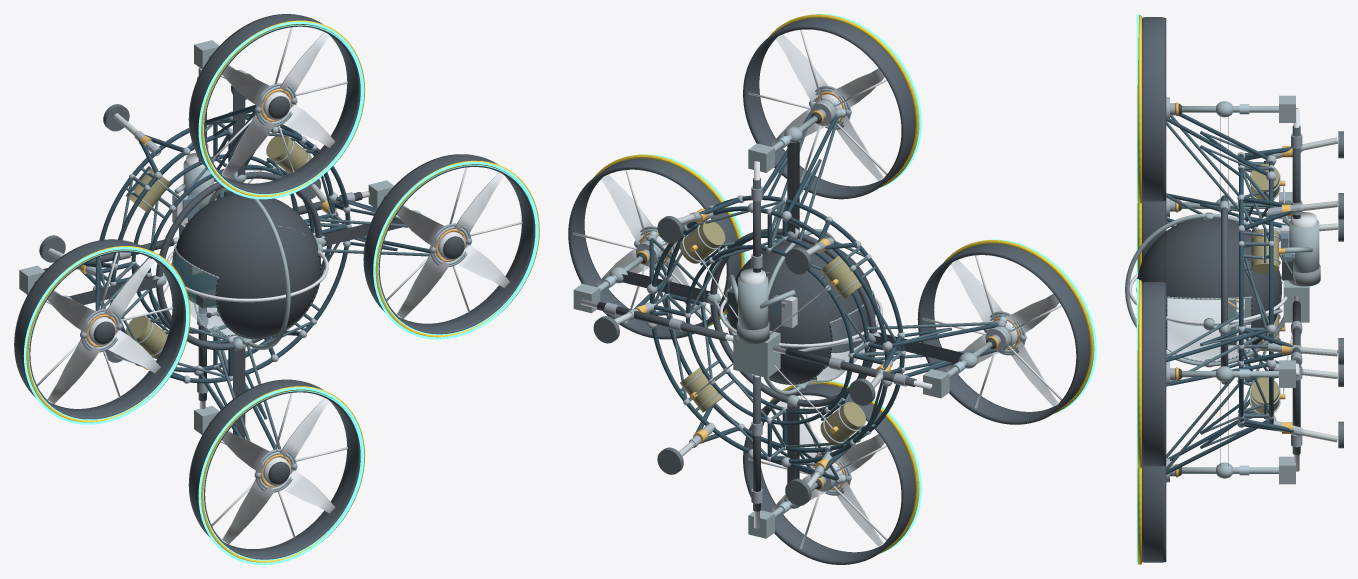
Rendered from r6-r3-drive-connected.glb.
3 renders of one model, left to right at view 1: azimuth 30°, elevation 25°; view 2: azimuth 150°, elevation 25°; view 3: azimuth 270°, elevation 25°, orthographic.
Visible parts, largest first — view 1: P04 | CFRP upper spherical sandwich, P02 | F1 open annular duct, P02 | F4 open annular duct, P02 | F3 open annular duct, P02 | F2 open annular duct, P04 | Aft CFRP belt west, V4 P06 | UPPER outer compression ring, P06 | Carbon ring R=1.190m, P04 | Segmented laminated window 1, Phase2_Duct_Lip_Glow_F4, Phase2_Duct_Lip_Glow_F2, Phase2_Duct_Lip_Glow_F1 (+35 smaller); view 2: P02 | F3 open annular duct, P02 | F2 open annular duct, P02 | F1 open annular duct, P02 | F4 open annular duct, P04 | CFRP lower spherical sandwich, V4 P06 | LOWER outer load ring, V4 P06 | UPPER outer compression ring, P06 | Carbon ring R=1.190m, V4 P06 | LOWER inner pressure ring, P04 | Aft CFRP belt west, P03 | Four way reduction gearbox, P01 | M250 C30P class turboshaft schematic (+24 smaller); view 3: P04 | Aft CFRP belt east, P02 | F2 open annular duct, P02 | F1 open annular duct, P04 | Segmented laminated window 3, P02 | F4 open annular duct, P05 | Outer pitch ring YZ, P04 | Segmented laminated window 2, P01 | M250 C30P class turboshaft schematic, P04 | CFRP lower spherical sandwich, V4 P06 | UPPER outer compression ring, P04 | Segmented laminated window 1, P04 | CFRP upper spherical sandwich (+36 smaller).
Part boxes in pixels (x1=…): P04 | CFRP upper spherical sandwich: x1=217, y1=227, x2=319, y2=337; P02 | F1 open annular duct: x1=363, y1=154, x2=535, y2=334; P02 | F4 open annular duct: x1=188, y1=379, x2=360, y2=559; P02 | F3 open annular duct: x1=14, y1=239, x2=185, y2=419; P02 | F2 open annular duct: x1=188, y1=14, x2=360, y2=193; P04 | Aft CFRP belt west: x1=176, y1=194, x2=267, y2=276; V4 P06 | UPPER outer compression ring: x1=111, y1=128, x2=350, y2=383; P06 | Carbon ring R=1.190m: x1=156, y1=171, x2=322, y2=350; P04 | Segmented laminated window 1: x1=173, y1=251, x2=234, y2=334; Phase2_Duct_Lip_Glow_F4: x1=198, y1=387, x2=364, y2=564; Phase2_Duct_Lip_Glow_F2: x1=198, y1=21, x2=364, y2=199; Phase2_Duct_Lip_Glow_F1: x1=373, y1=161, x2=538, y2=339; P02 | F3 open annular duct: x1=917, y1=243, x2=1090, y2=424; P02 | F2 open annular duct: x1=743, y1=18, x2=915, y2=199; P02 | F1 open annular duct: x1=568, y1=158, x2=740, y2=339; P02 | F4 open annular duct: x1=743, y1=384, x2=915, y2=564; P04 | CFRP lower spherical sandwich: x1=728, y1=272, x2=830, y2=383; V4 P06 | LOWER outer load ring: x1=650, y1=206, x2=889, y2=463; V4 P06 | UPPER outer compression ring: x1=665, y1=195, x2=904, y2=452; P06 | Carbon ring R=1.190m: x1=710, y1=228, x2=876, y2=407; V4 P06 | LOWER inner pressure ring: x1=686, y1=245, x2=853, y2=425; P04 | Aft CFRP belt west: x1=780, y1=242, x2=871, y2=322; P03 | Four way reduction gearbox: x1=733, y1=330, x2=780, y2=377; P01 | M250 C30P class turboshaft schematic: x1=738, y1=276, x2=768, y2=330; P04 | Aft CFRP belt east: x1=1166, y1=224, x2=1251, y2=297; P02 | F2 open annular duct: x1=1142, y1=17, x2=1166, y2=201; P02 | F1 open annular duct: x1=1142, y1=282, x2=1166, y2=466; P04 | Segmented laminated window 3: x1=1167, y1=298, x2=1250, y2=360; P02 | F4 open annular duct: x1=1142, y1=465, x2=1166, y2=562; P05 | Outer pitch ring YZ: x1=1125, y1=213, x2=1284, y2=366; P04 | Segmented laminated window 2: x1=1168, y1=321, x2=1250, y2=360; P01 | M250 C30P class turboshaft schematic: x1=1289, y1=219, x2=1319, y2=272; P04 | CFRP lower spherical sandwich: x1=1251, y1=231, x2=1281, y2=344; V4 P06 | UPPER outer compression ring: x1=1239, y1=154, x2=1243, y2=426; P04 | Segmented laminated window 1: x1=1168, y1=298, x2=1238, y2=320; P04 | CFRP upper spherical sandwich: x1=1136, y1=231, x2=1166, y2=295.
Bounding box in the file's own units: 7.69 × 7.67 × 2.86.
